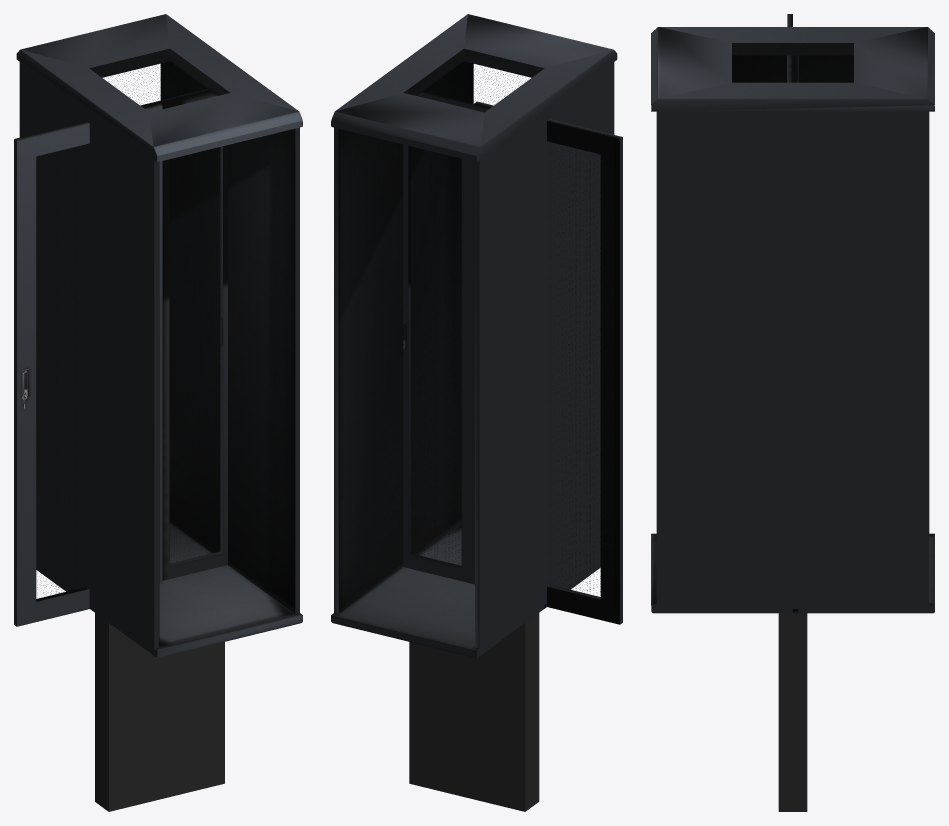
Rendered from jigui002.FBX.
3 views of the same model, side by side, from view 1: azimuth 30°, elevation 25°; view 2: azimuth 150°, elevation 25°; view 3: azimuth 270°, elevation 25° (orthographic).
Parts seen in each view (by area): view 1: jigui001_body, fuwuqi002, jigui001_door, jigui001_doorR, fuwuqi003; view 2: jigui001_body, fuwuqi002, jigui001_door, jigui001_doorR, jigui001_doorL; view 3: jigui001_body, fuwuqi002, fuwuqi003.
Part boxes in pixels (left/top/right/bottom): jigui001_body: left=16, top=14, right=302, bottom=657; fuwuqi002: left=95, top=613, right=224, bottom=811; jigui001_door: left=14, top=103, right=162, bottom=626; jigui001_doorR: left=157, top=89, right=227, bottom=580; fuwuqi003: left=95, top=614, right=101, bottom=806; jigui001_body: left=331, top=14, right=617, bottom=657; fuwuqi002: left=409, top=613, right=539, bottom=811; jigui001_door: left=474, top=101, right=622, bottom=624; jigui001_doorR: left=403, top=91, right=473, bottom=583; jigui001_doorL: left=471, top=103, right=546, bottom=608; jigui001_body: left=651, top=27, right=934, bottom=613; fuwuqi002: left=778, top=613, right=807, bottom=811; fuwuqi003: left=793, top=613, right=807, bottom=811.
Bounding box in the file's own units: 90 × 280 × 100.
